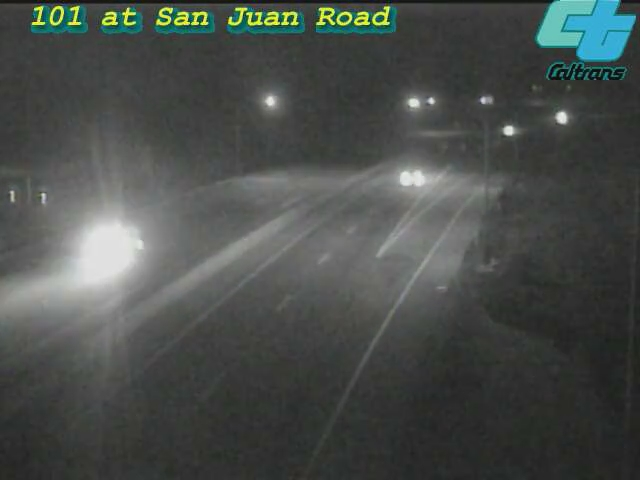vehicle: (66, 212, 146, 292), (372, 139, 452, 219), (483, 106, 533, 156), (537, 93, 587, 143)
